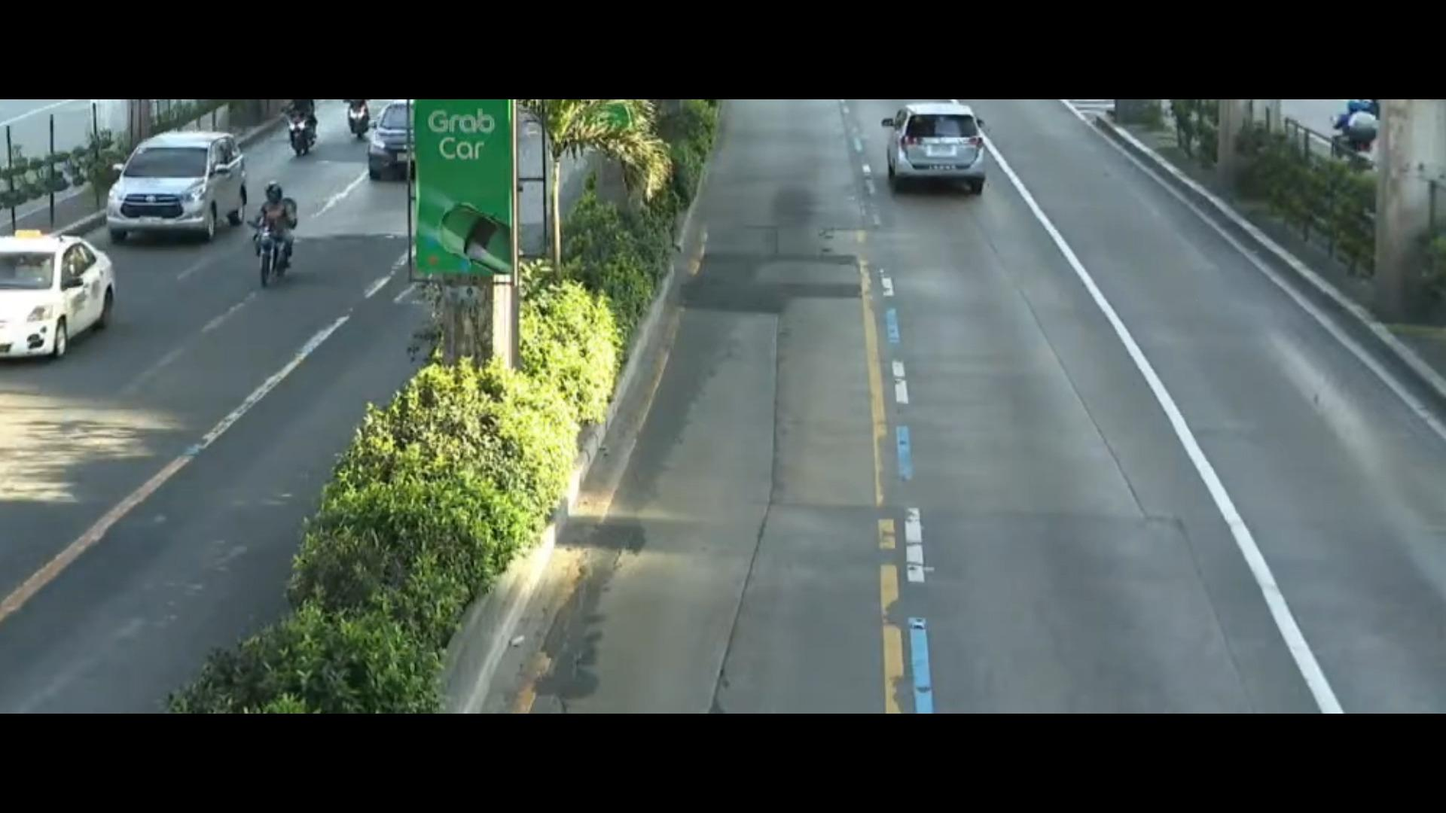Motorcycle: (232, 170, 322, 298), (282, 89, 330, 155), (343, 93, 375, 143)
SUV: (113, 121, 253, 250), (859, 102, 1016, 211)
Sedan: (0, 230, 127, 370)
